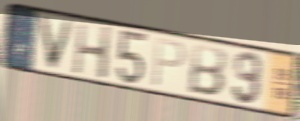5: (115, 27, 149, 86)
9: (231, 49, 264, 107)
B: (185, 41, 229, 99)
H: (71, 21, 114, 82)
P: (150, 36, 188, 89)
V: (36, 13, 77, 73)
